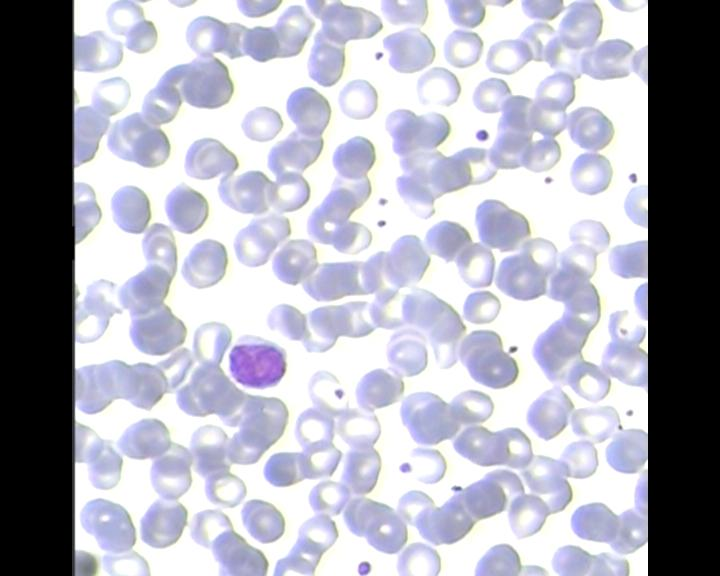lymp: (225, 331, 291, 388)
